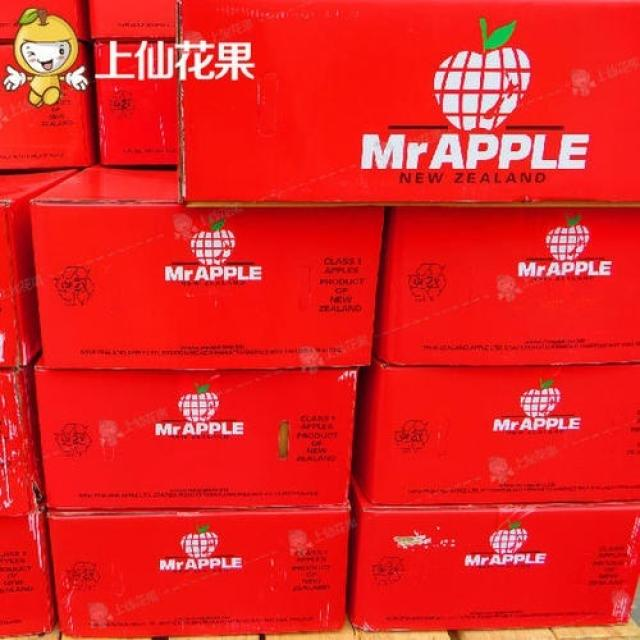box: (179, 3, 639, 204), (33, 166, 388, 368), (32, 348, 355, 507), (346, 466, 639, 631), (350, 351, 639, 502), (371, 206, 639, 368), (47, 507, 351, 639), (0, 168, 88, 365), (0, 1, 99, 172), (87, 0, 181, 168), (0, 499, 55, 637), (1, 365, 45, 517)
